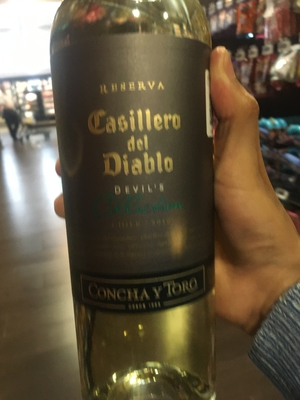casillero del diablo devils collection verde: (42, 1, 228, 400)
